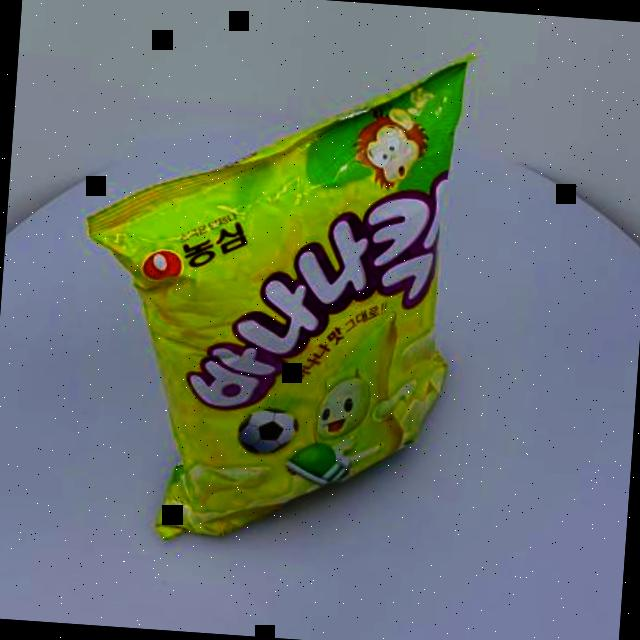snack_bag: (54, 16, 488, 566)
